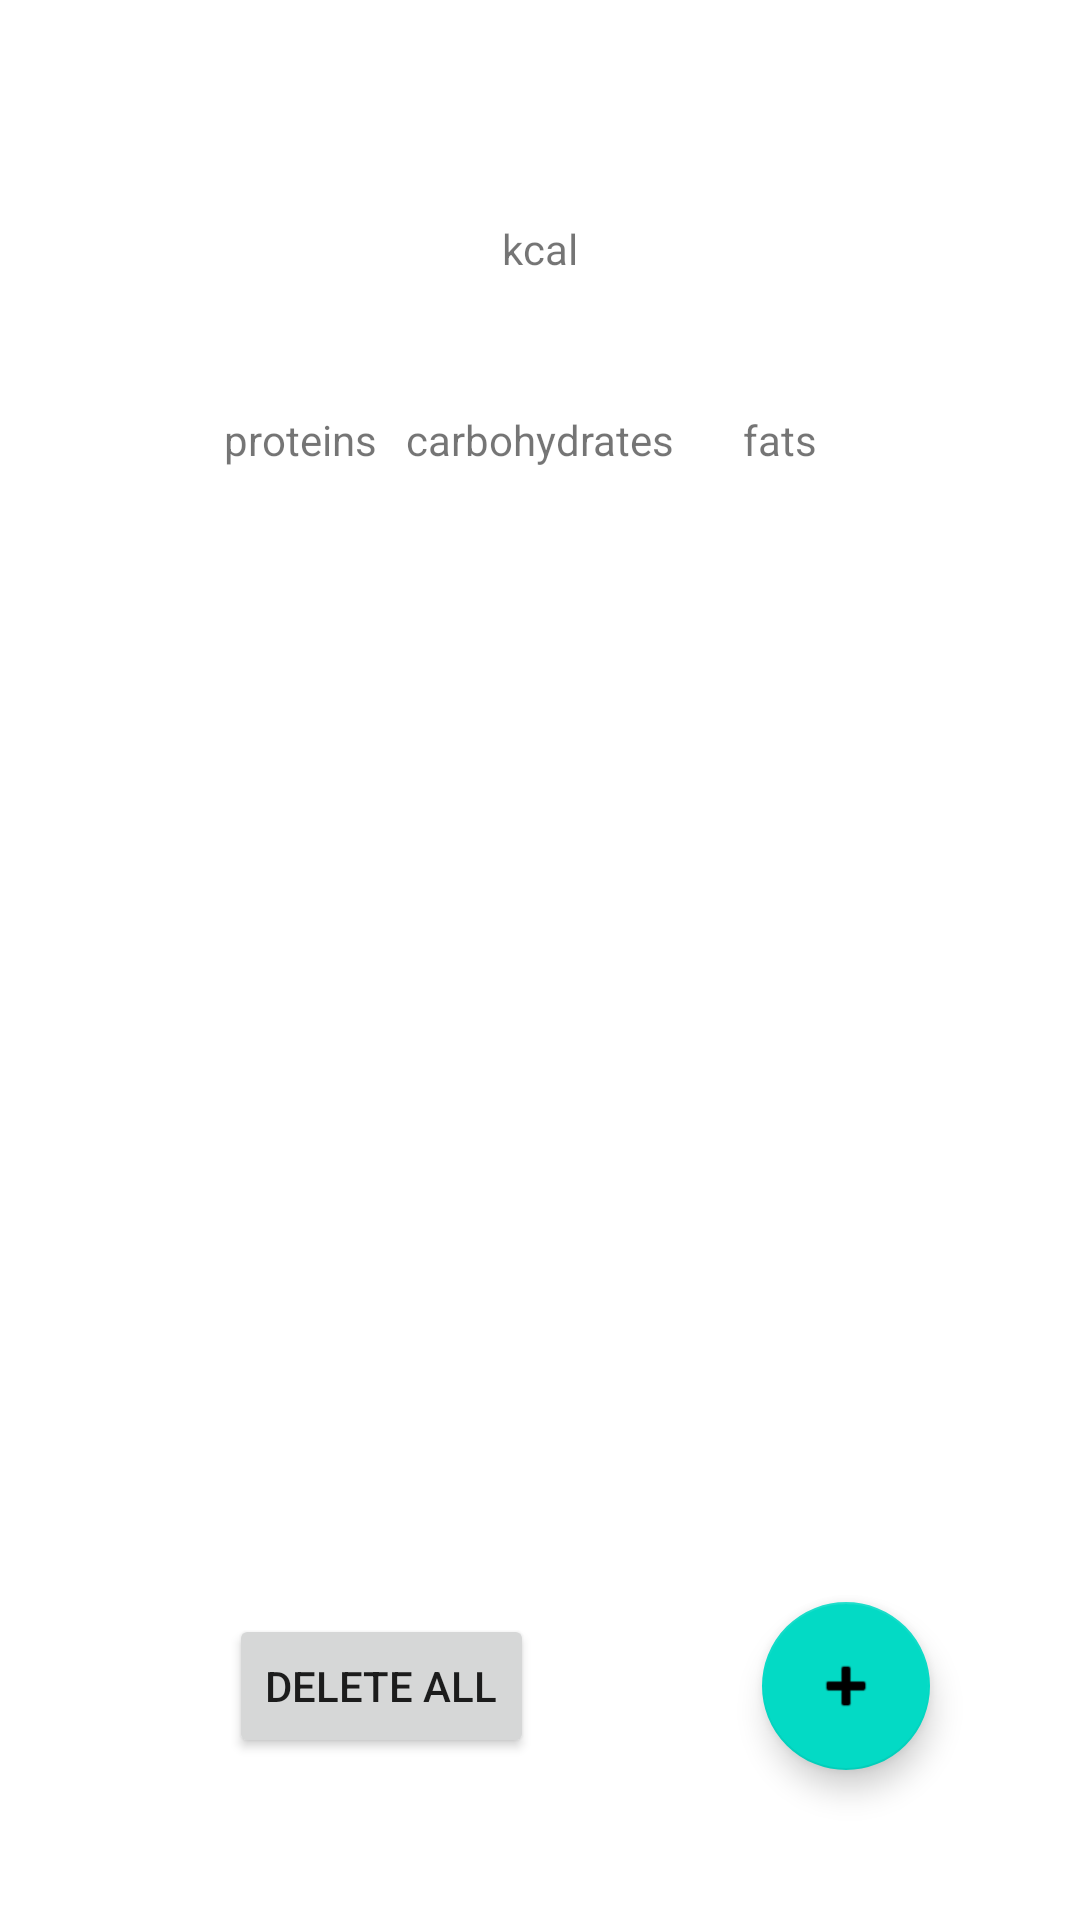

Icons on this 1080×1920 Android screen, each with its box as (x1, y1, x2, y2):
add: (762, 1602, 930, 1770)
